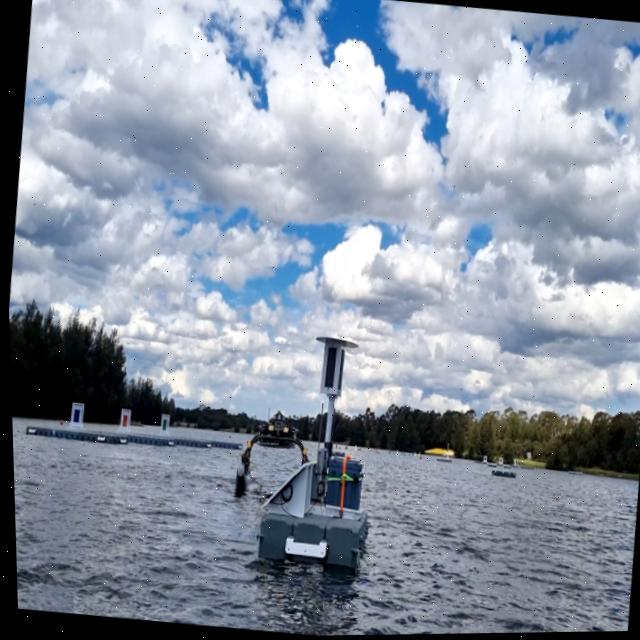led: (318, 344, 338, 393)
